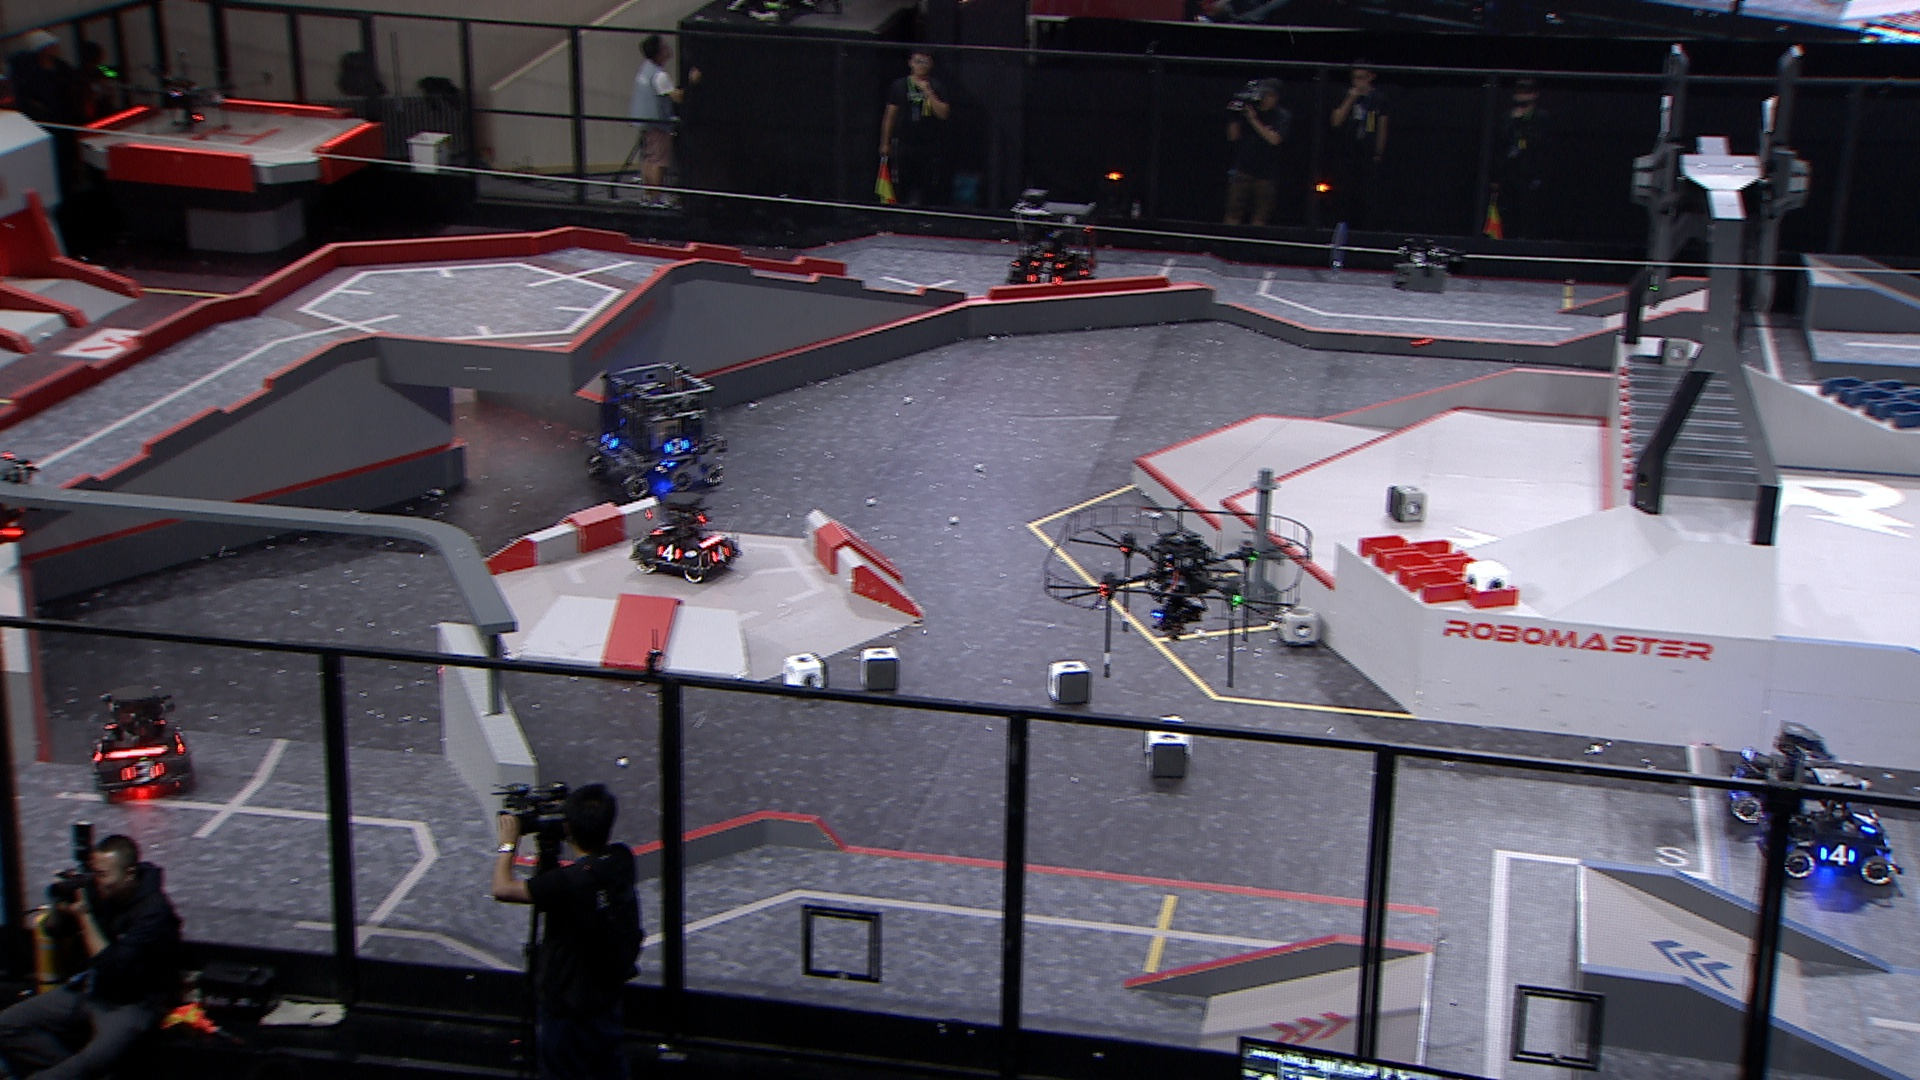armor: (120, 760, 167, 785), (1818, 844, 1859, 869), (1851, 808, 1880, 839), (665, 436, 694, 456), (1026, 272, 1064, 285), (657, 543, 684, 560), (600, 429, 622, 450), (1030, 258, 1065, 272), (709, 546, 733, 562), (651, 524, 678, 537)
car: (582, 357, 731, 498), (1756, 766, 1905, 887), (1722, 723, 1863, 828), (88, 684, 196, 803), (628, 491, 745, 585), (1004, 187, 1101, 287)
